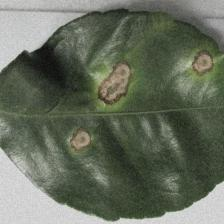greening: (61, 44, 218, 148)
